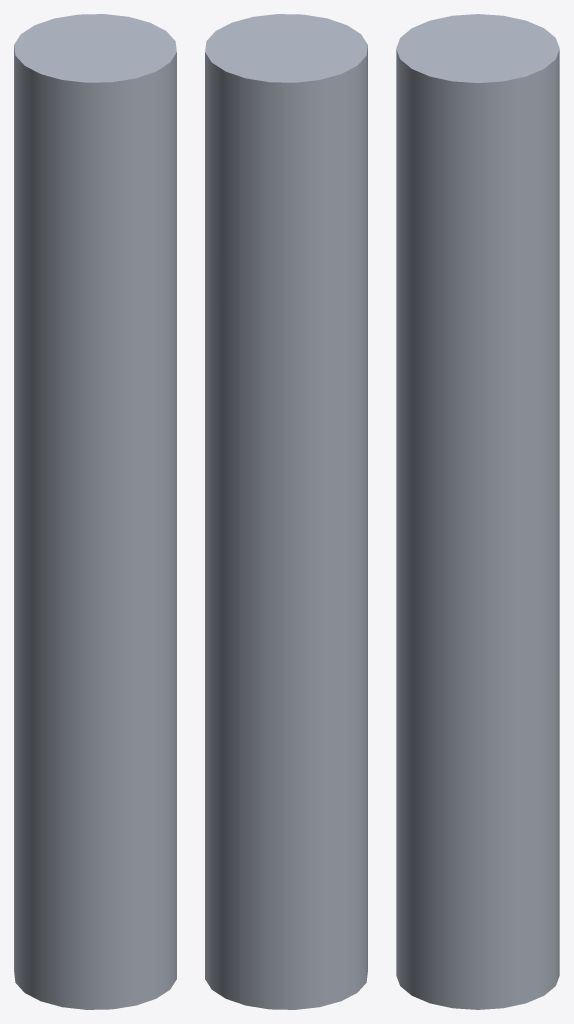
File: pipe_steel.obj
3 renders of one model, left to right at view 1: azimuth 30°, elevation 25°; view 2: azimuth 150°, elevation 25°; view 3: azimuth 270°, elevation 25°, orthographic.
Visible parts, largest first — view 1: pipe_steel; view 2: pipe_steel; view 3: pipe_steel.
Boxes of the visible parts, x1,y1,x2,y2 form: pipe_steel: (14,14,176,1009); pipe_steel: (205,14,367,1009); pipe_steel: (396,14,559,1009).
Bounding box in the file's own units: 0.48 × 3 × 0.48.
